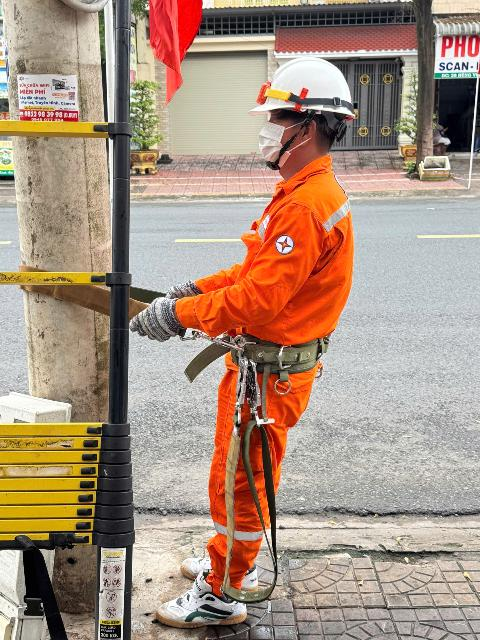gloves: (122, 292, 187, 347), (147, 274, 218, 315)
harness: (218, 314, 335, 380)
helmet: (244, 42, 375, 127)
shoes: (146, 576, 246, 633), (177, 541, 267, 593)
